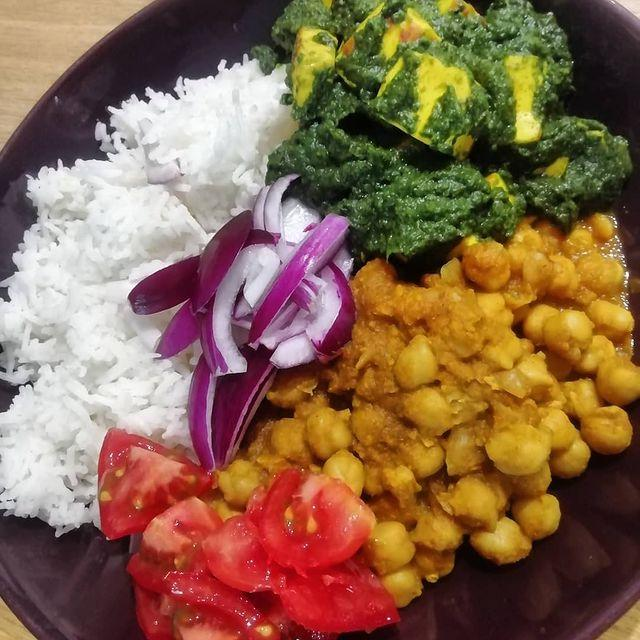Chole: (344, 230, 634, 566)
